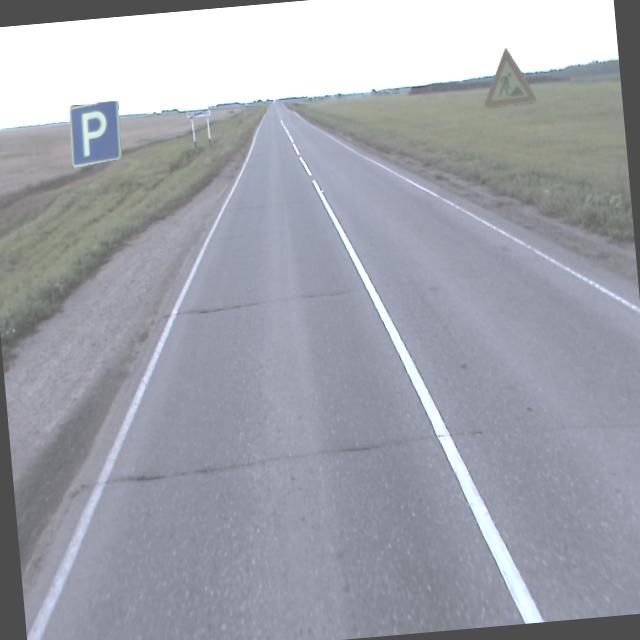road: (23, 100, 640, 640)
